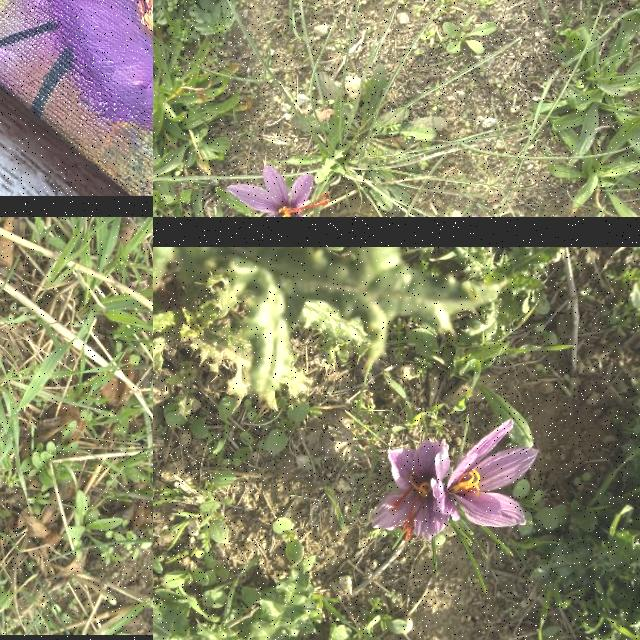flower: (226, 166, 327, 217)
overlap: (370, 420, 542, 542)
